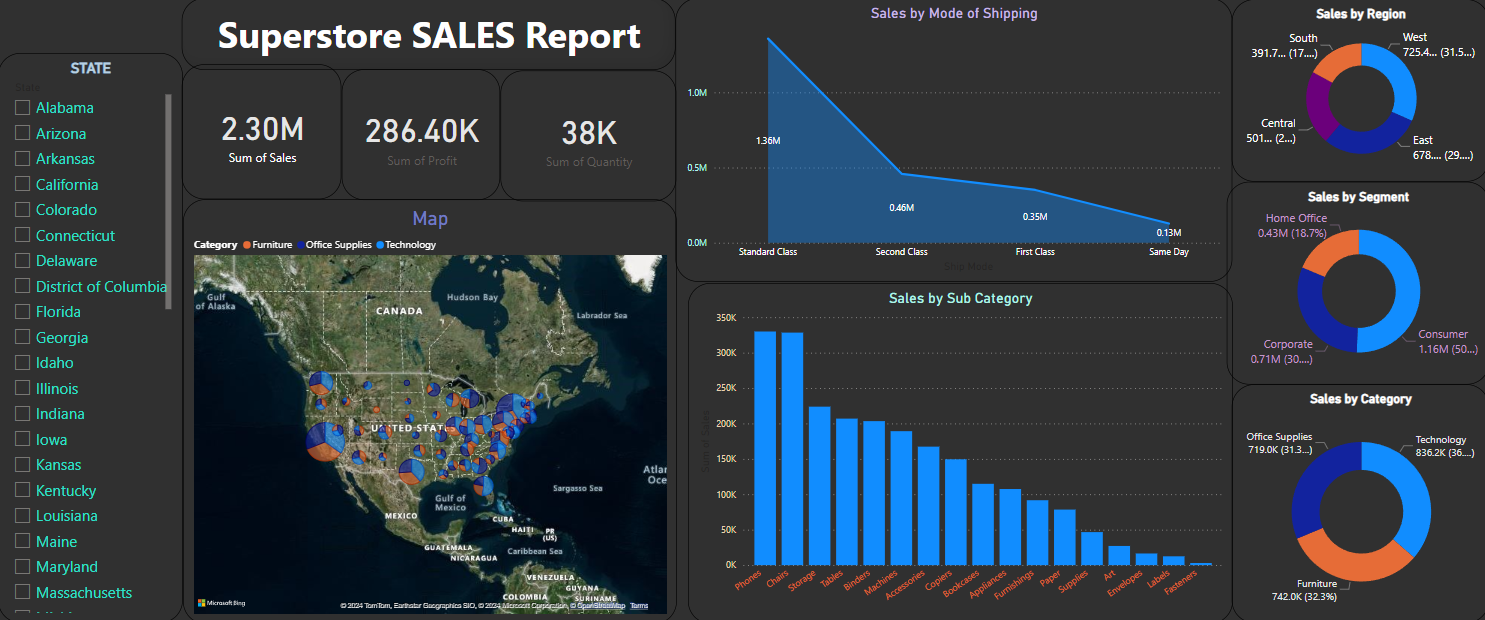

The dashboard page shown, as its layout file describes it:
{"tool":"powerbi","page":{"name":"Sales","canvas":[1988,835],"ordinal":1},"visuals":[{"type":"textbox","box":[245.7,0,658.6,95.7],"z":0},{"type":"donutChart","title":"Sales by Category","fields":{"Category":["Orders.Category"],"Y":["Sum(Orders.Sales)"]},"box":[1645,515,343.3,318.3],"z":1000},{"type":"donutChart","title":"Sales by Segment","fields":{"Category":["Orders.Segment"],"Y":["Sum(Orders.Sales)"]},"box":[1638.3,245,350,270],"z":2000},{"type":"donutChart","title":"Sales by Region","fields":{"Category":["Orders.Region"],"Y":["Sum(Orders.Sales)"]},"box":[1645,1.7,343.3,243.3],"z":3000},{"type":"card","fields":{"Values":["Sum(Orders.Sales)"]},"box":[245.7,88.6,212.9,180],"z":4000},{"type":"slicer","title":"STATE","fields":{"Values":["Orders.State"]},"box":[0,73.1,246.3,759.7],"z":5000},{"type":"card","fields":{"Values":["Sum(Orders.Quantity)"]},"box":[670,96,234,174],"z":6000},{"type":"card","fields":{"Values":["Sum(Orders.Profit)"]},"box":[458.6,95.7,211.4,174.3],"z":7000},{"type":"stackedAreaChart","title":"Sales by Mode of Shipping","fields":{"Y":["Sum(Orders.Sales)"],"Category":["Orders.Ship Mode"]},"box":[904,0,742,378],"z":8000},{"type":"map","title":"Map","fields":{"Size":["Sum(Orders.Sales)"],"Category":["Orders.State"],"Series":["Orders.Category"]},"box":[246,268,658,566],"z":9000},{"type":"columnChart","title":"Sales by Sub Category","fields":{"Category":["Orders.Sub-Category"],"Y":["Sum(Orders.Sales)"]},"box":[920,380,726,454],"z":10000}]}

Visuals, with their boxes in screenshot pixels (x1, y1, x2, y2), scaled from the page's 1988x835 canvas onto the 1485x620 screenshot:
textbox: region(184, 0, 675, 71)
"Sales by Category" donutChart: region(1229, 382, 1484, 619)
"Sales by Segment" donutChart: region(1224, 182, 1484, 382)
"Sales by Region" donutChart: region(1229, 1, 1484, 182)
card - Sum(Orders.Sales): region(184, 66, 343, 199)
"STATE" slicer: region(0, 54, 184, 618)
card - Sum(Orders.Quantity): region(500, 71, 675, 200)
card - Sum(Orders.Profit): region(343, 71, 500, 200)
"Sales by Mode of Shipping" stackedAreaChart: region(675, 0, 1230, 281)
"Map" map: region(184, 199, 675, 619)
"Sales by Sub Category" columnChart: region(687, 282, 1230, 619)
